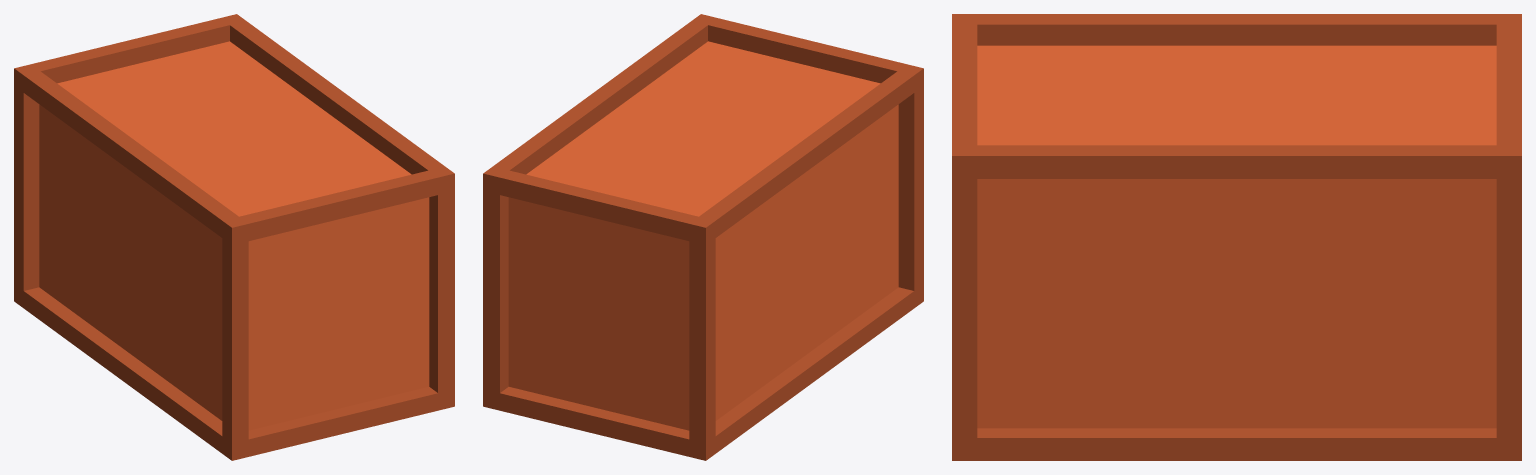
Rendered from WoodCase2.fbx.
3 renders of one model, left to right at view 1: azimuth 30°, elevation 25°; view 2: azimuth 150°, elevation 25°; view 3: azimuth 270°, elevation 25°, orthographic. The views are drawn at different scales.
Parts seen in each view (by area): view 1: WoodCase1.001; view 2: WoodCase1.001; view 3: WoodCase1.001.
Boxes of the visible parts, bbox=[...] form: WoodCase1.001: bbox=[14, 14, 454, 460]; WoodCase1.001: bbox=[483, 14, 923, 460]; WoodCase1.001: bbox=[952, 14, 1521, 460].
Bounding box in the file's own units: 144 × 144 × 244.
